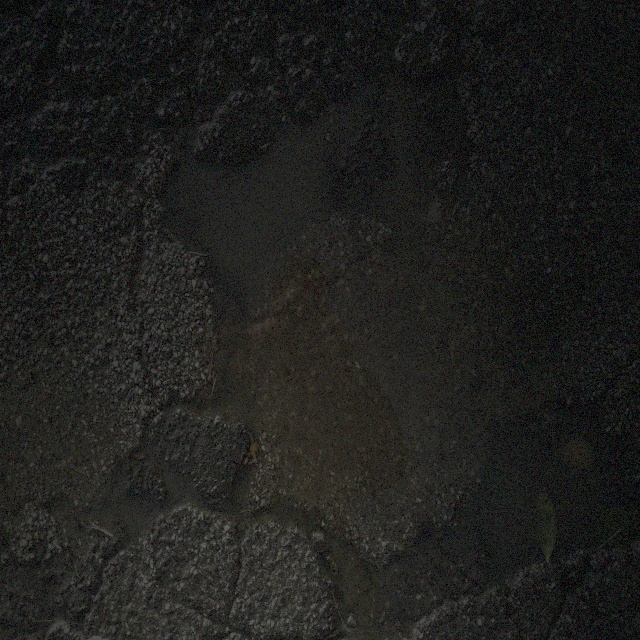pothole: (146, 54, 492, 308), (290, 394, 631, 618)
